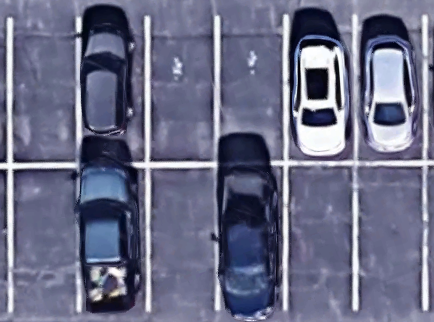Occupied: (285, 15, 356, 164), (355, 15, 425, 162), (78, 165, 148, 311), (217, 15, 286, 163), (217, 163, 286, 311), (78, 17, 147, 164)
Vacant: (146, 16, 217, 166), (286, 163, 356, 311), (148, 164, 219, 309), (9, 16, 79, 163), (10, 164, 79, 312), (356, 163, 425, 310)
